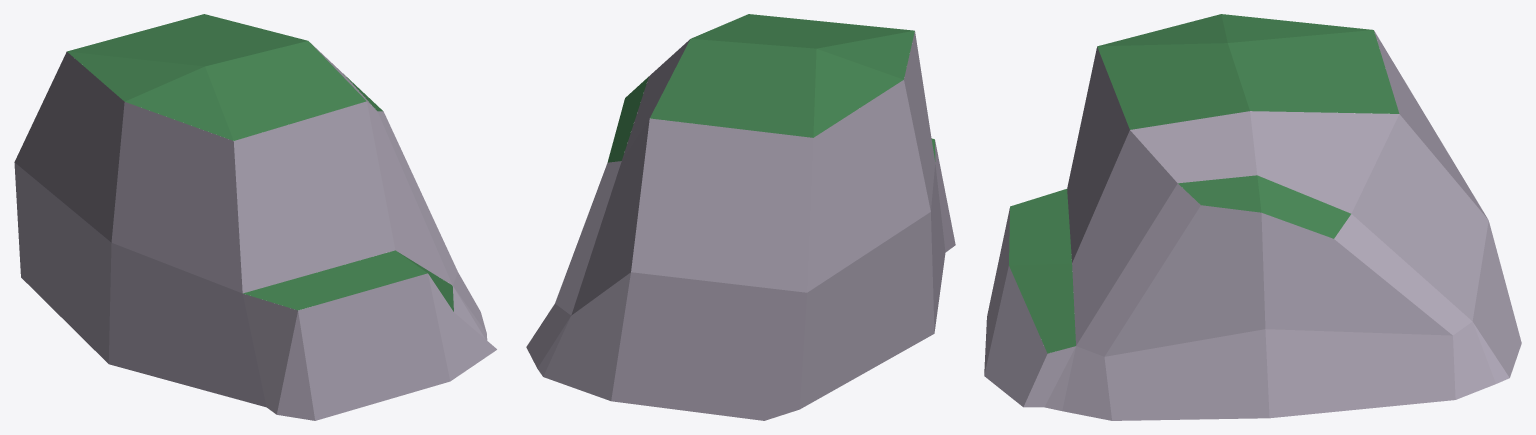
Rendered from Rock_Moss_5-optimized.glb.
The picture shows the model from 3 angles, left to right: view 1: azimuth 30°, elevation 25°; view 2: azimuth 150°, elevation 25°; view 3: azimuth 270°, elevation 25°; orthographic projection. The views are drawn at different scales.
Visible parts, largest first — view 1: Rock_Moss_5; view 2: Rock_Moss_5; view 3: Rock_Moss_5.
Boxes of the visible parts, left/top/right/bottom form: Rock_Moss_5: left=14, top=14, right=496, bottom=420; Rock_Moss_5: left=526, top=14, right=955, bottom=420; Rock_Moss_5: left=984, top=14, right=1521, bottom=420.
Size of the model in its own units: 0.6632 by 0.5768 by 0.9148.
